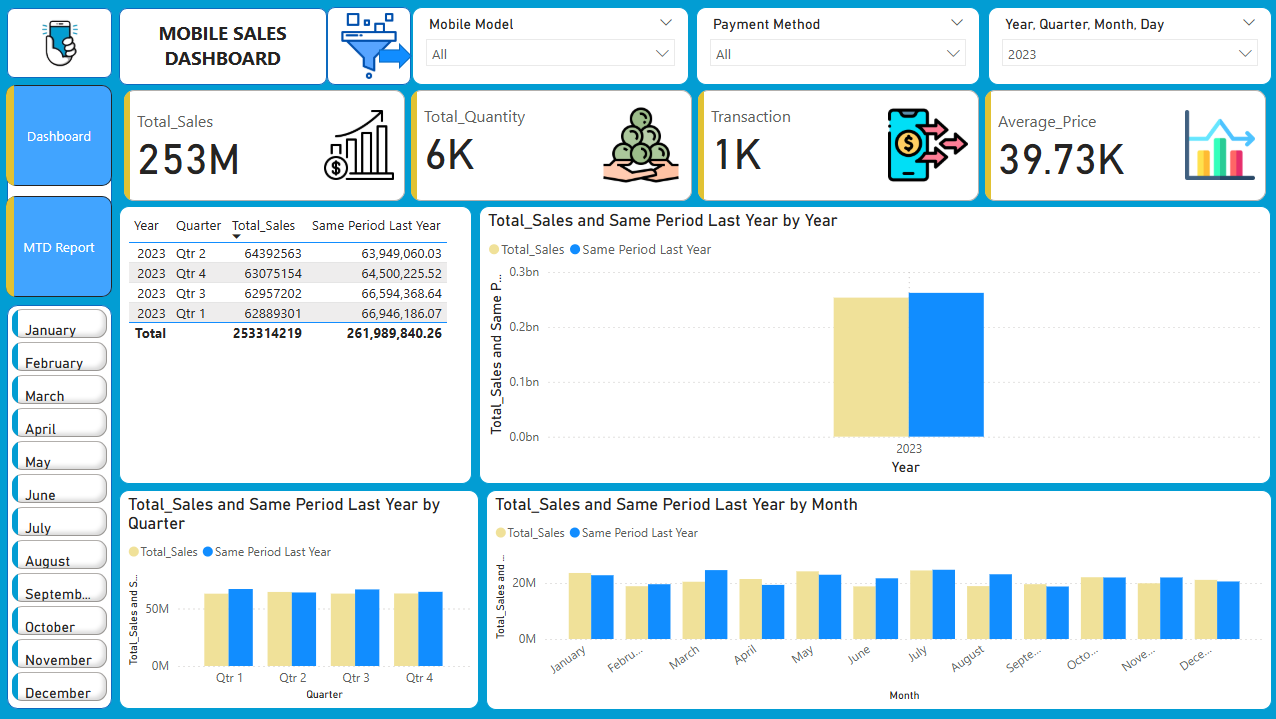

What the dashboard file says about the page in this screenshot:
{"tool":"powerbi","page":{"name":"Same Period Last Year","canvas":[1280,720],"ordinal":2},"visuals":[{"type":"shape","box":[8.2,8.2,104.5,70],"z":0},{"type":"image","box":[8.2,8.2,104.5,70],"z":1000},{"type":"shape","box":[7.7,84.9,105.2,212.4],"z":2000},{"type":"shape","box":[8.2,304.5,104.5,404.5],"z":3000},{"type":"cardVisual","fields":{"Data":["Sales_Data.Total_Sales","Sales_Data.Total_Quantity","Sales_Data.Transaction","Sales_Data.Average_Price"]},"box":[120,85,1153,121],"z":4000},{"type":"slicer","fields":{"Values":["Sales_Data.Mobile Model"]},"box":[413,7,277,78],"z":5000},{"type":"slicer","fields":{"Values":["Sales_Data.Payment Method"]},"box":[697,7,284,78],"z":6000},{"type":"slicer","fields":{"Values":["Custom_Calendar.Date.Variation.Date Hierarchy.Year","Custom_Calendar.Date.Variation.Date Hierarchy.Quarter","Custom_Calendar.Date.Variation.Date Hierarchy.Month","Custom_Calendar.Date.Variation.Date Hierarchy.Day"]},"box":[989,7,284,78],"z":7000},{"type":"shape","box":[328,7,84,78],"z":8000},{"type":"image","box":[328,7,84,78],"z":9000},{"type":"shape","box":[380,43,33,26],"z":10000},{"type":"shape","box":[120,8,208,77],"z":11000},{"type":"textbox","box":[126,15,195,63],"z":12000},{"type":"advancedSlicerVisual","fields":{"Values":["Custom_Calendar.Date.Variation.Date Hierarchy.Month"]},"box":[7.7,304.1,105.2,405.4],"z":13000},{"type":"tableEx","fields":{"Values":["Custom_Calendar.Date.Variation.Date Hierarchy.Year","Custom_Calendar.Date.Variation.Date Hierarchy.Quarter","Sales_Data.Total_Sales","Sales_Data.Same Period Last Year"]},"box":[119.7,205.6,353.3,278],"z":14000},{"type":"clusteredColumnChart","fields":{"Category":["Custom_Calendar.Date.Variation.Date Hierarchy.Year","Custom_Calendar.Date.Variation.Date Hierarchy.Quarter"],"Y":["Sales_Data.Total_Sales","Sales_Data.Same Period Last Year"]},"box":[479.8,205.6,792.5,278],"z":15000},{"type":"clusteredColumnChart","fields":{"Y":["Sales_Data.Total_Sales","Sales_Data.Same Period Last Year"],"Category":["Custom_Calendar.Date.Variation.Date Hierarchy.Year","Custom_Calendar.Date.Variation.Date Hierarchy.Quarter","Custom_Calendar.Date.Variation.Date Hierarchy.Month","Custom_Calendar.Date.Variation.Date Hierarchy.Day"]},"box":[487.5,490.4,785.8,219.1],"z":16000},{"type":"clusteredColumnChart","fields":{"Category":["Custom_Calendar.Date.Variation.Date Hierarchy.Year","Custom_Calendar.Date.Variation.Date Hierarchy.Quarter"],"Y":["Sales_Data.Total_Sales","Sales_Data.Same Period Last Year"]},"box":[119.7,490.4,360.1,218.2],"z":17000},{"type":"pageNavigator","box":[6.8,84.9,106.2,212.4],"z":17001}]}

Visuals, with their boxes in screenshot pixels (x1, y1, x2, y2), scaled from the page's 1280x720 canvas onto the 1276x719 screenshot:
shape: (8, 8, 112, 78)
image: (8, 8, 112, 78)
shape: (8, 85, 113, 297)
shape: (8, 304, 112, 708)
cardVisual - Sales_Data.Total_Sales x Sales_Data.Total_Quantity: (120, 85, 1269, 206)
slicer - Sales_Data.Mobile Model: (412, 7, 688, 85)
slicer - Sales_Data.Payment Method: (695, 7, 978, 85)
slicer - Custom_Calendar.Date.Variation.Date Hierarchy.Year x Custom_Calendar.Date.Variation.Date Hierarchy.Quarter: (986, 7, 1269, 85)
shape: (327, 7, 411, 85)
image: (327, 7, 411, 85)
shape: (379, 43, 412, 69)
shape: (120, 8, 327, 85)
textbox: (126, 15, 320, 78)
advancedSlicerVisual - Custom_Calendar.Date.Variation.Date Hierarchy.Month: (8, 304, 113, 709)
tableEx - Custom_Calendar.Date.Variation.Date Hierarchy.Year x Custom_Calendar.Date.Variation.Date Hierarchy.Quarter: (119, 205, 472, 483)
clusteredColumnChart - Custom_Calendar.Date.Variation.Date Hierarchy.Year x Custom_Calendar.Date.Variation.Date Hierarchy.Quarter: (478, 205, 1268, 483)
clusteredColumnChart - Sales_Data.Total_Sales x Sales_Data.Same Period Last Year: (486, 490, 1269, 709)
clusteredColumnChart - Custom_Calendar.Date.Variation.Date Hierarchy.Year x Custom_Calendar.Date.Variation.Date Hierarchy.Quarter: (119, 490, 478, 708)
pageNavigator: (7, 85, 113, 297)
